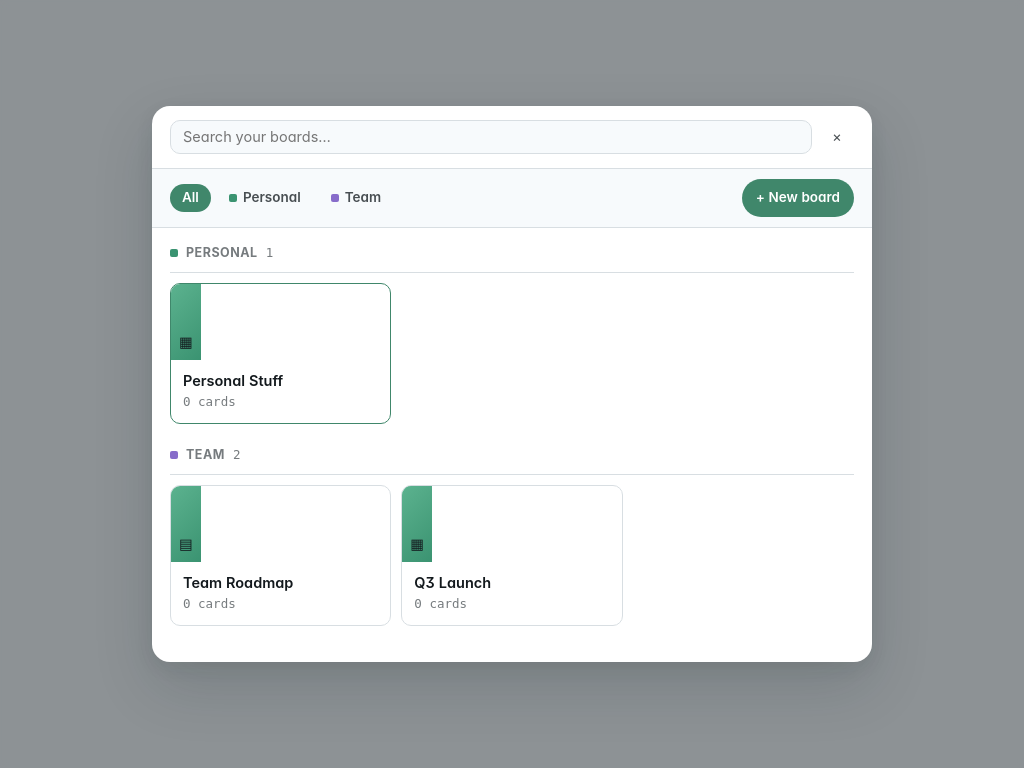
Scenario: BoardSwitcher (BS1..BS15) › BS4: clicking a workspace tab filters to that workspace
Click the button "Team" at (356, 198), box [319, 184, 393, 212]
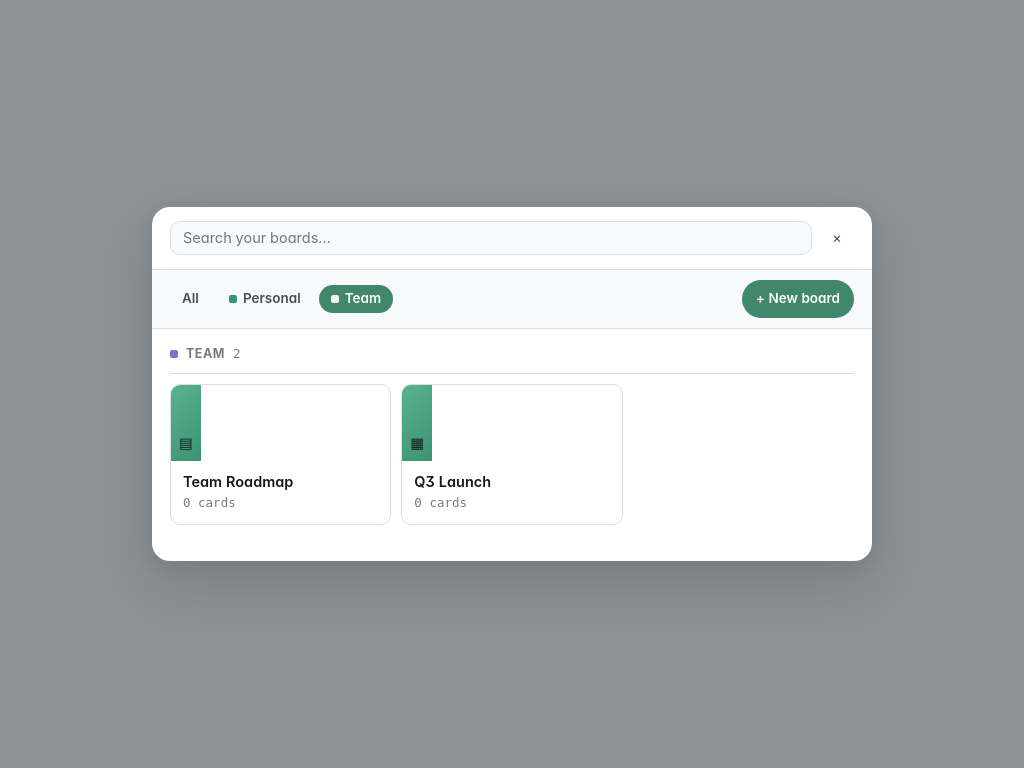
Expected: the button with test id "bs-card-b2" is shown, [170, 384, 391, 525]
Expected: the button with test id "bs-card-b1" is gone
